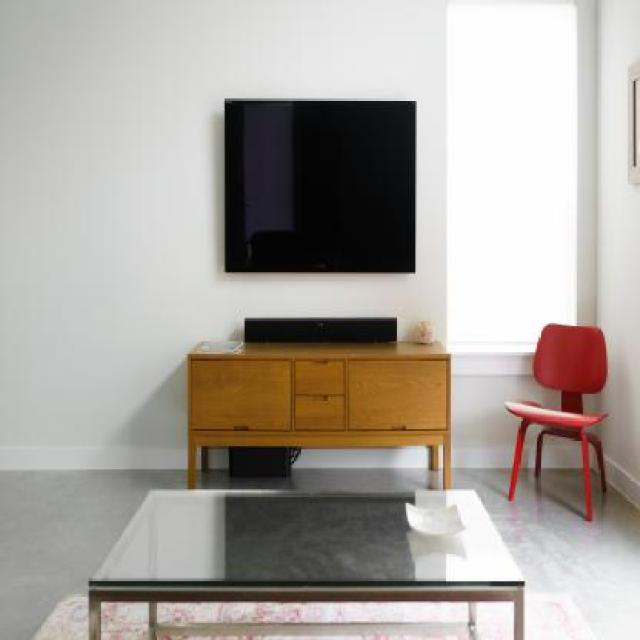floor: (0, 468, 190, 640), (452, 467, 640, 640), (103, 602, 515, 638), (201, 447, 444, 492)
